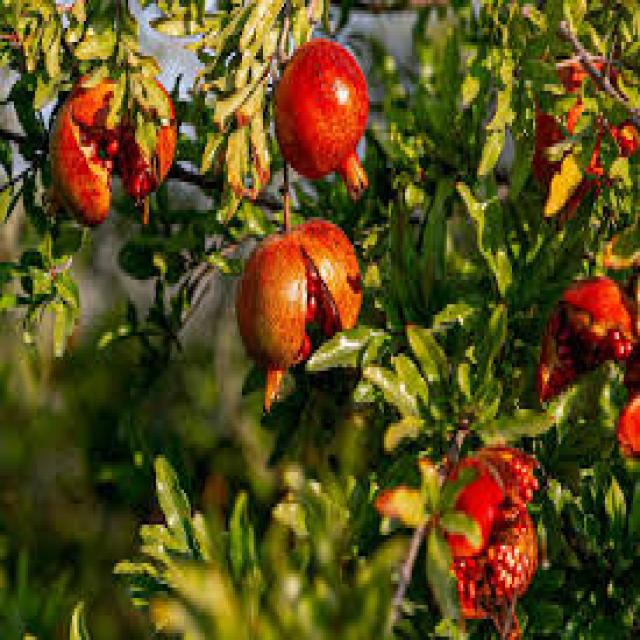overripe: (230, 201, 363, 414), (427, 436, 549, 633), (46, 59, 179, 228)
